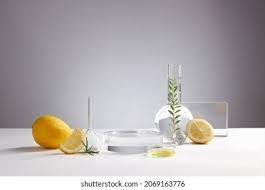lemon: (32, 115, 71, 148), (58, 127, 84, 154), (186, 118, 212, 143)
